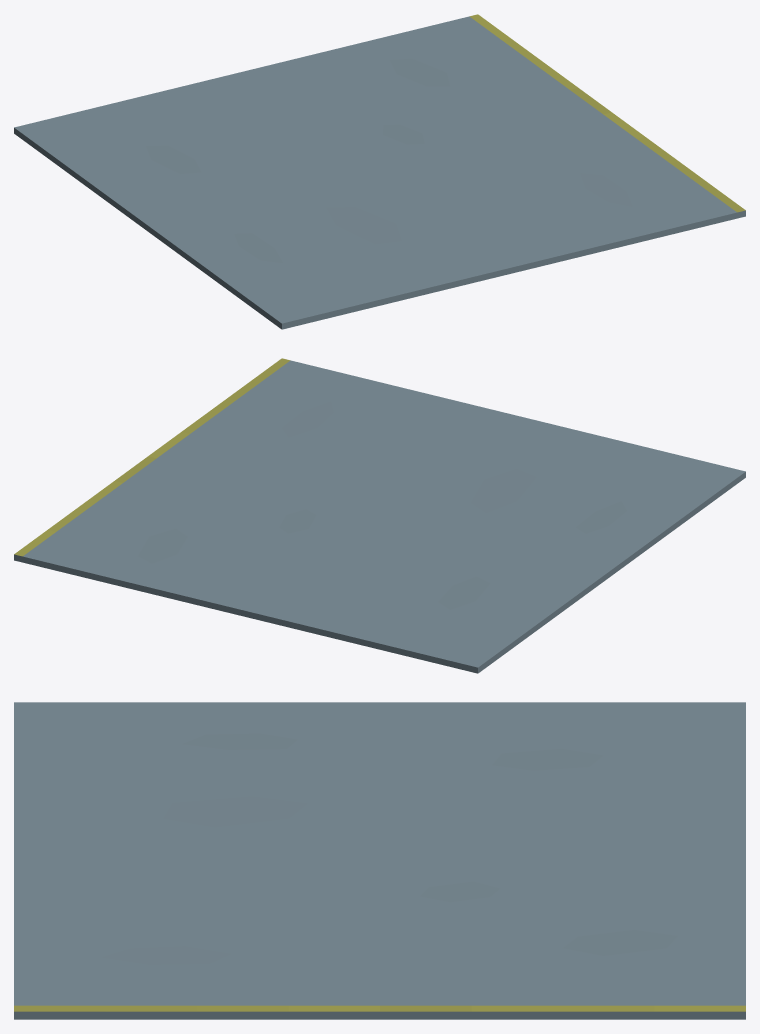
The model's file is taxiway-tile-d27d0c.glb.
The picture shows the model from 3 angles, top to bottom: view 1: azimuth 30°, elevation 25°; view 2: azimuth 150°, elevation 25°; view 3: azimuth 270°, elevation 25°; orthographic projection. The views are drawn at different scales.
Visible parts, largest first — view 1: taxiway-slab; view 2: taxiway-slab; view 3: taxiway-slab.
Part boxes in pixels (box(x1,y1,x2,y2)): taxiway-slab: box(14, 14, 745, 329); taxiway-slab: box(14, 358, 745, 673); taxiway-slab: box(14, 702, 745, 1019).
Bounding box in the file's own units: 4 × 0.05 × 4.
